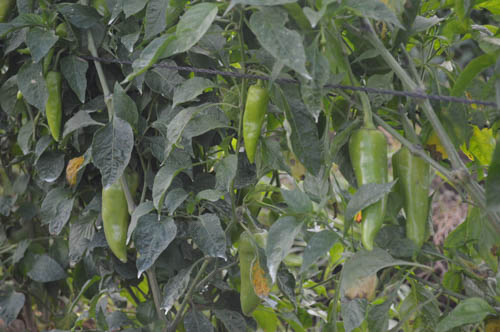ChiliPepper: (347, 131, 390, 254), (394, 147, 427, 247), (234, 231, 271, 315), (99, 176, 130, 261), (240, 86, 265, 163), (40, 71, 64, 138)
